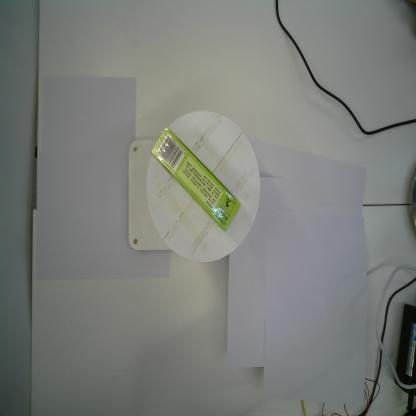Instant Drink: (150, 125, 241, 232)
